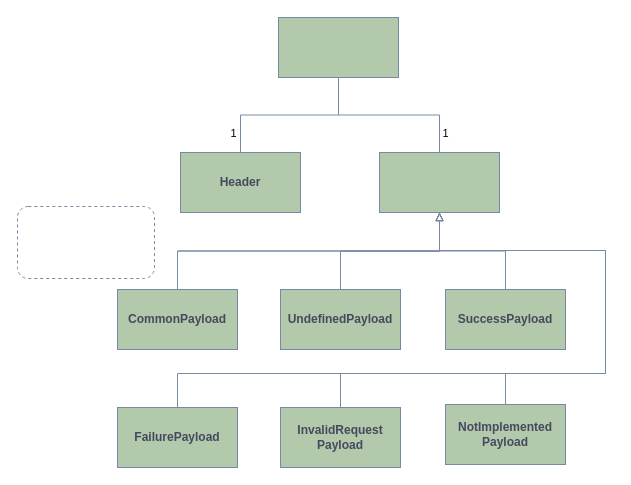
The diagram is 631 pixels wide and 485 high, and some of its shapes have lost their labels. The shapes that lost their labels are listed below. From the top down, each one's centre as x and y in pixels, then its label:
At (338,47): "Packet".
At (439,182): "<<interface>> Payload".
At (85,242): "CommonPayload has several subclasses for basic Amfiprot functionality".
